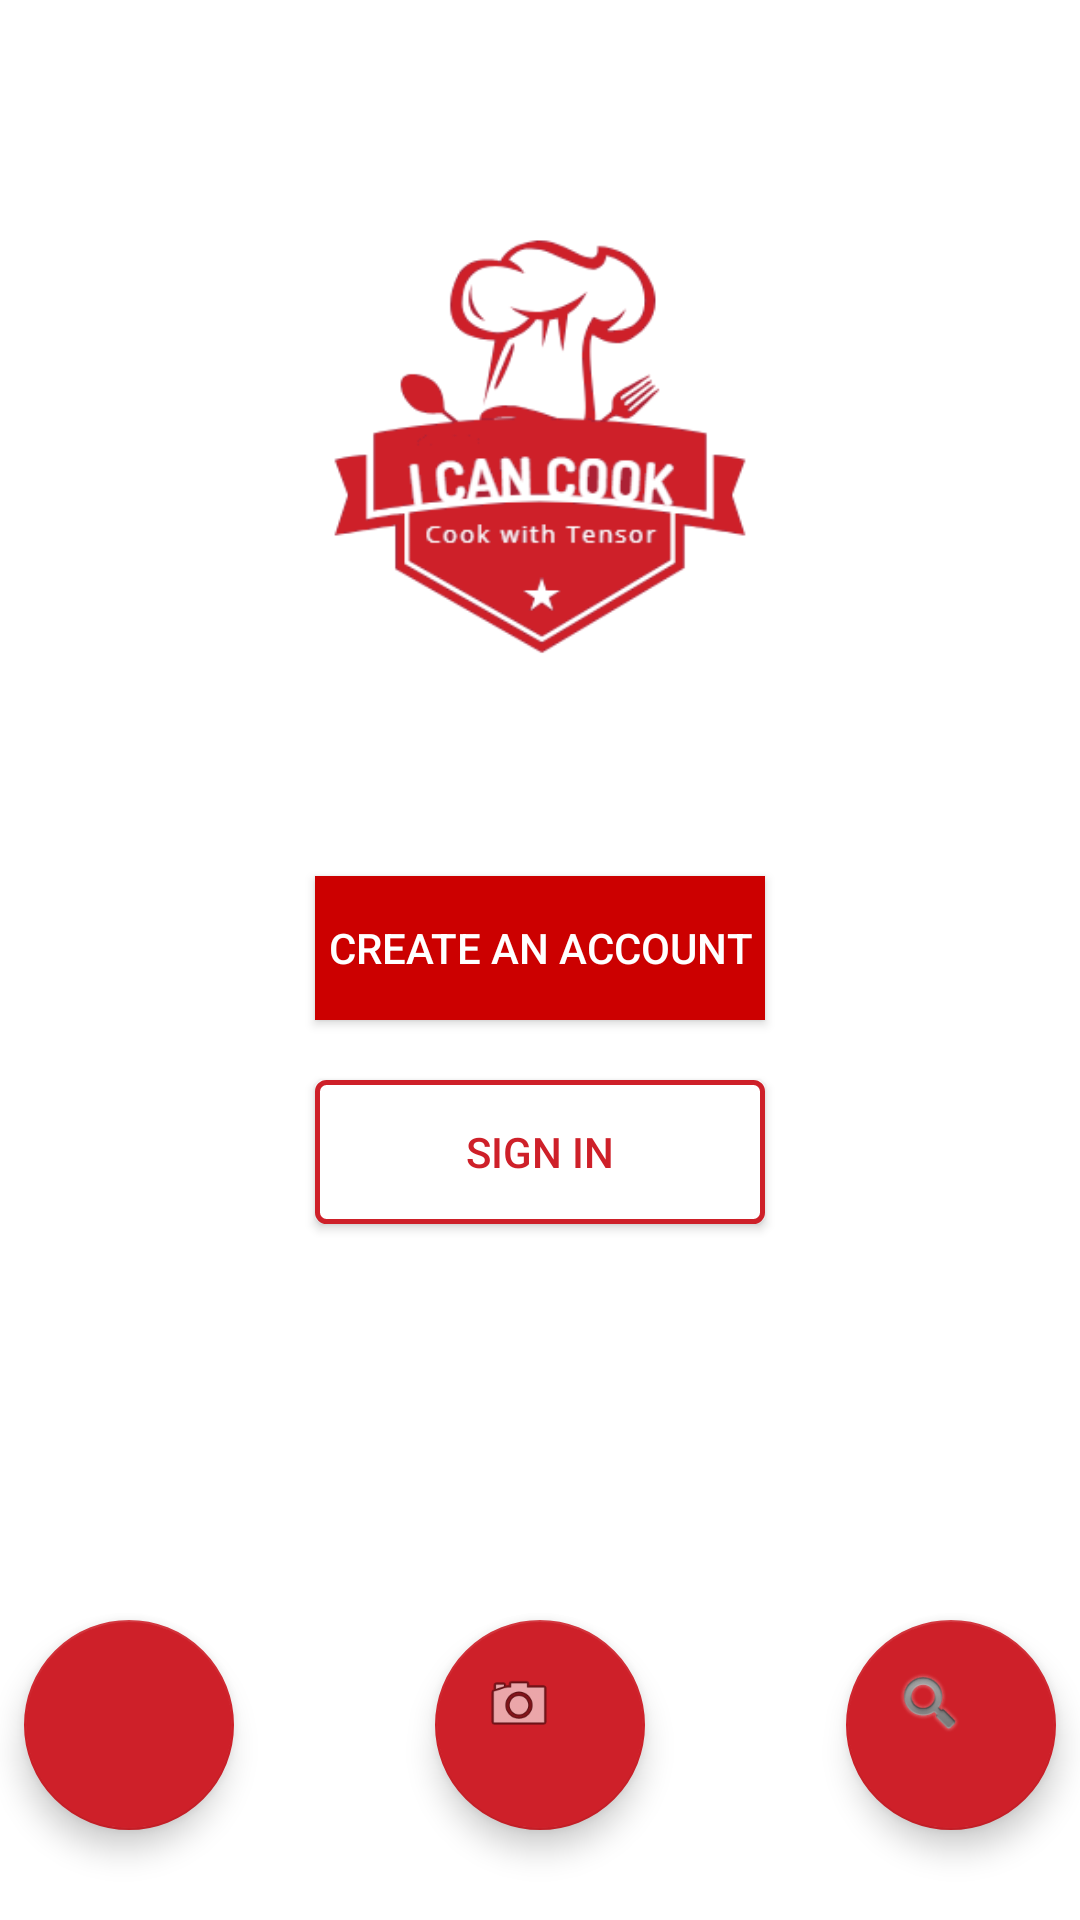

Named icons in this screenshot (1080px x 1920px) and their centers, (x,y):
camera: (540,1725)
search category: (951,1725)
